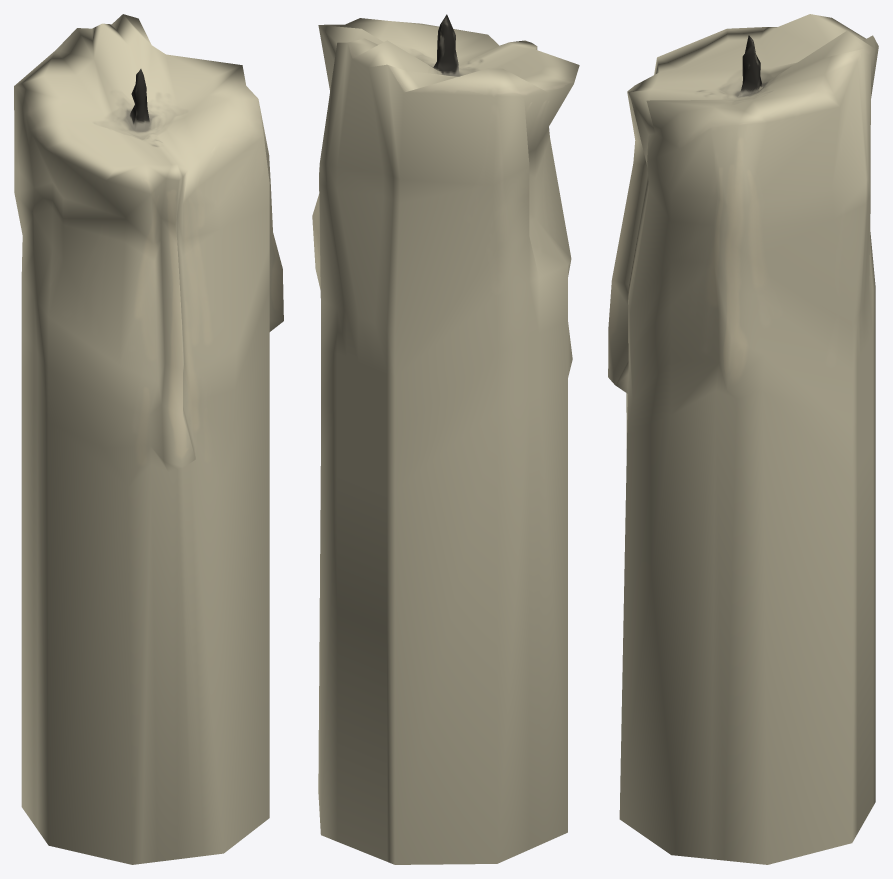
Rendered from Candle_Medium.fbx.
3 views of the same model, side by side, from view 1: azimuth 30°, elevation 25°; view 2: azimuth 150°, elevation 25°; view 3: azimuth 270°, elevation 25° (orthographic). The views are drawn at different scales.
Parts seen in each view (by area): view 1: Candel_Medium; view 2: Candel_Medium; view 3: Candel_Medium.
Boxes of the visible parts, <box> form: Candel_Medium: <box>14,14,283,864</box>; Candel_Medium: <box>312,14,579,864</box>; Candel_Medium: <box>608,14,878,864</box>.
Bounding box in the file's own units: 8.68 × 25.87 × 8.12.
